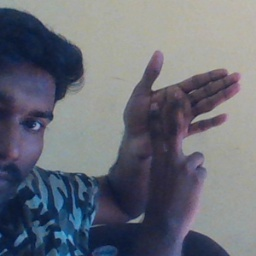N: (113, 47, 245, 187)
